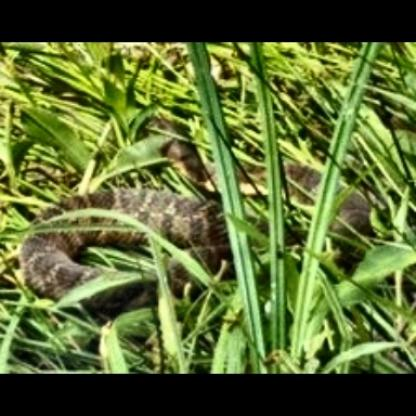Snake: (13, 116, 367, 300)
